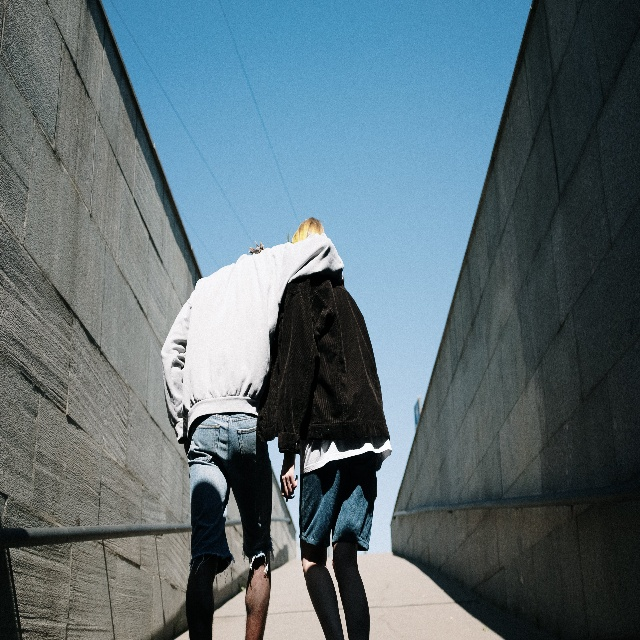Sin_guantes: (278, 452, 299, 501)
